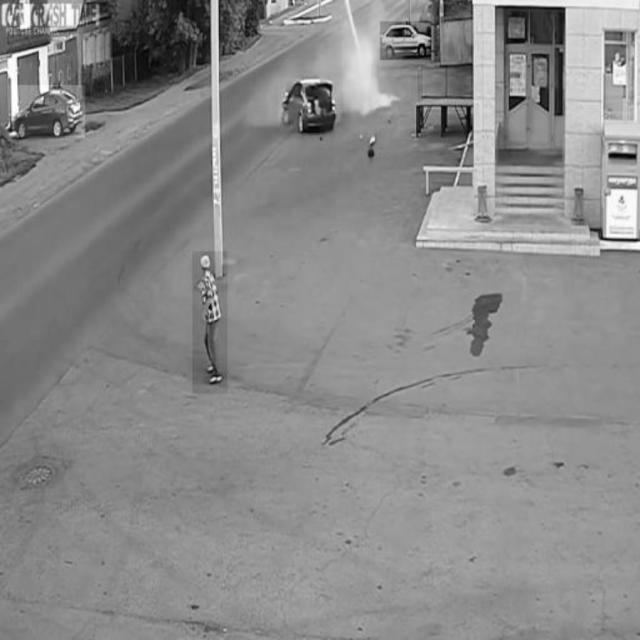person: (193, 252, 228, 394)
vehicle: (13, 86, 85, 138), (279, 78, 340, 132), (380, 21, 431, 59)
